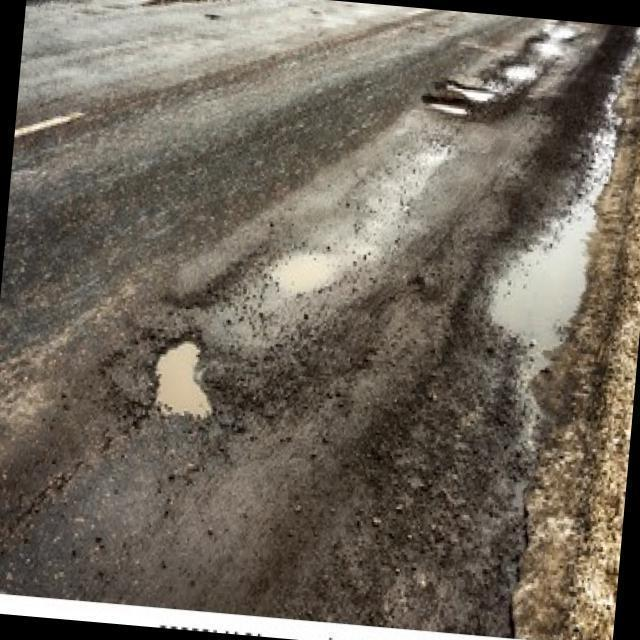pothole: (148, 328, 218, 423), (421, 93, 473, 117), (444, 79, 497, 101)
